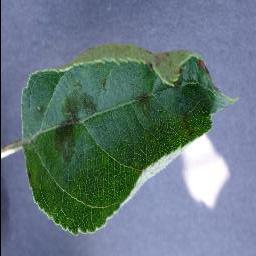apple healthy: (12, 41, 237, 236)
